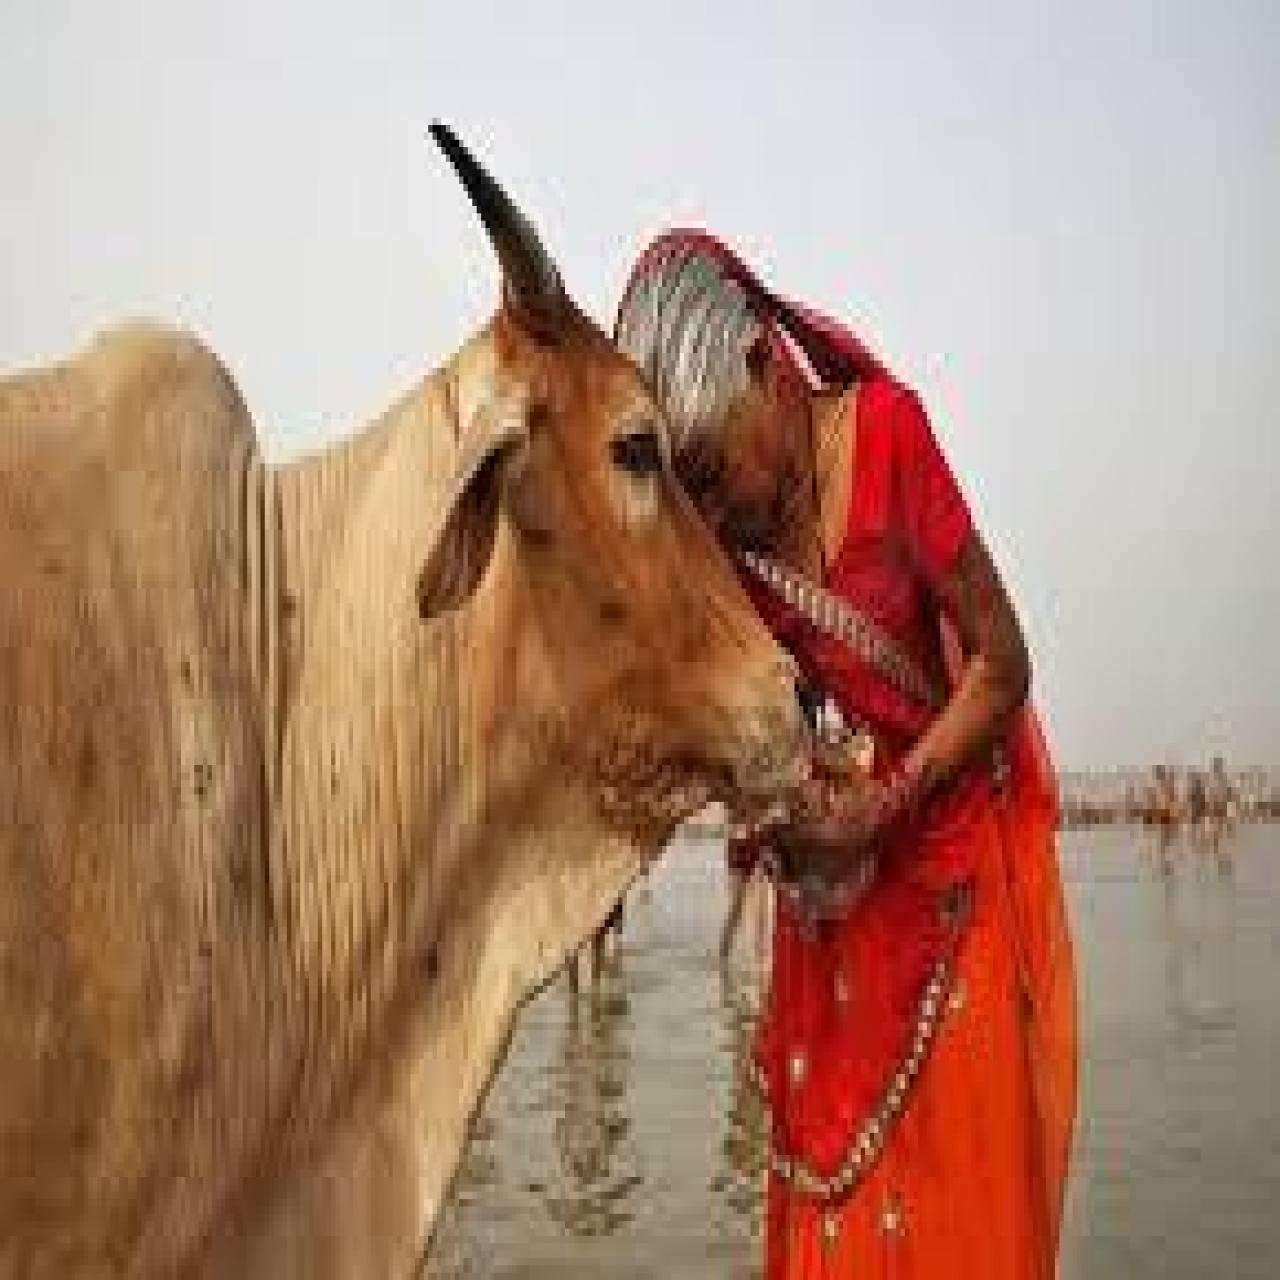cow: (2, 117, 818, 1280)
